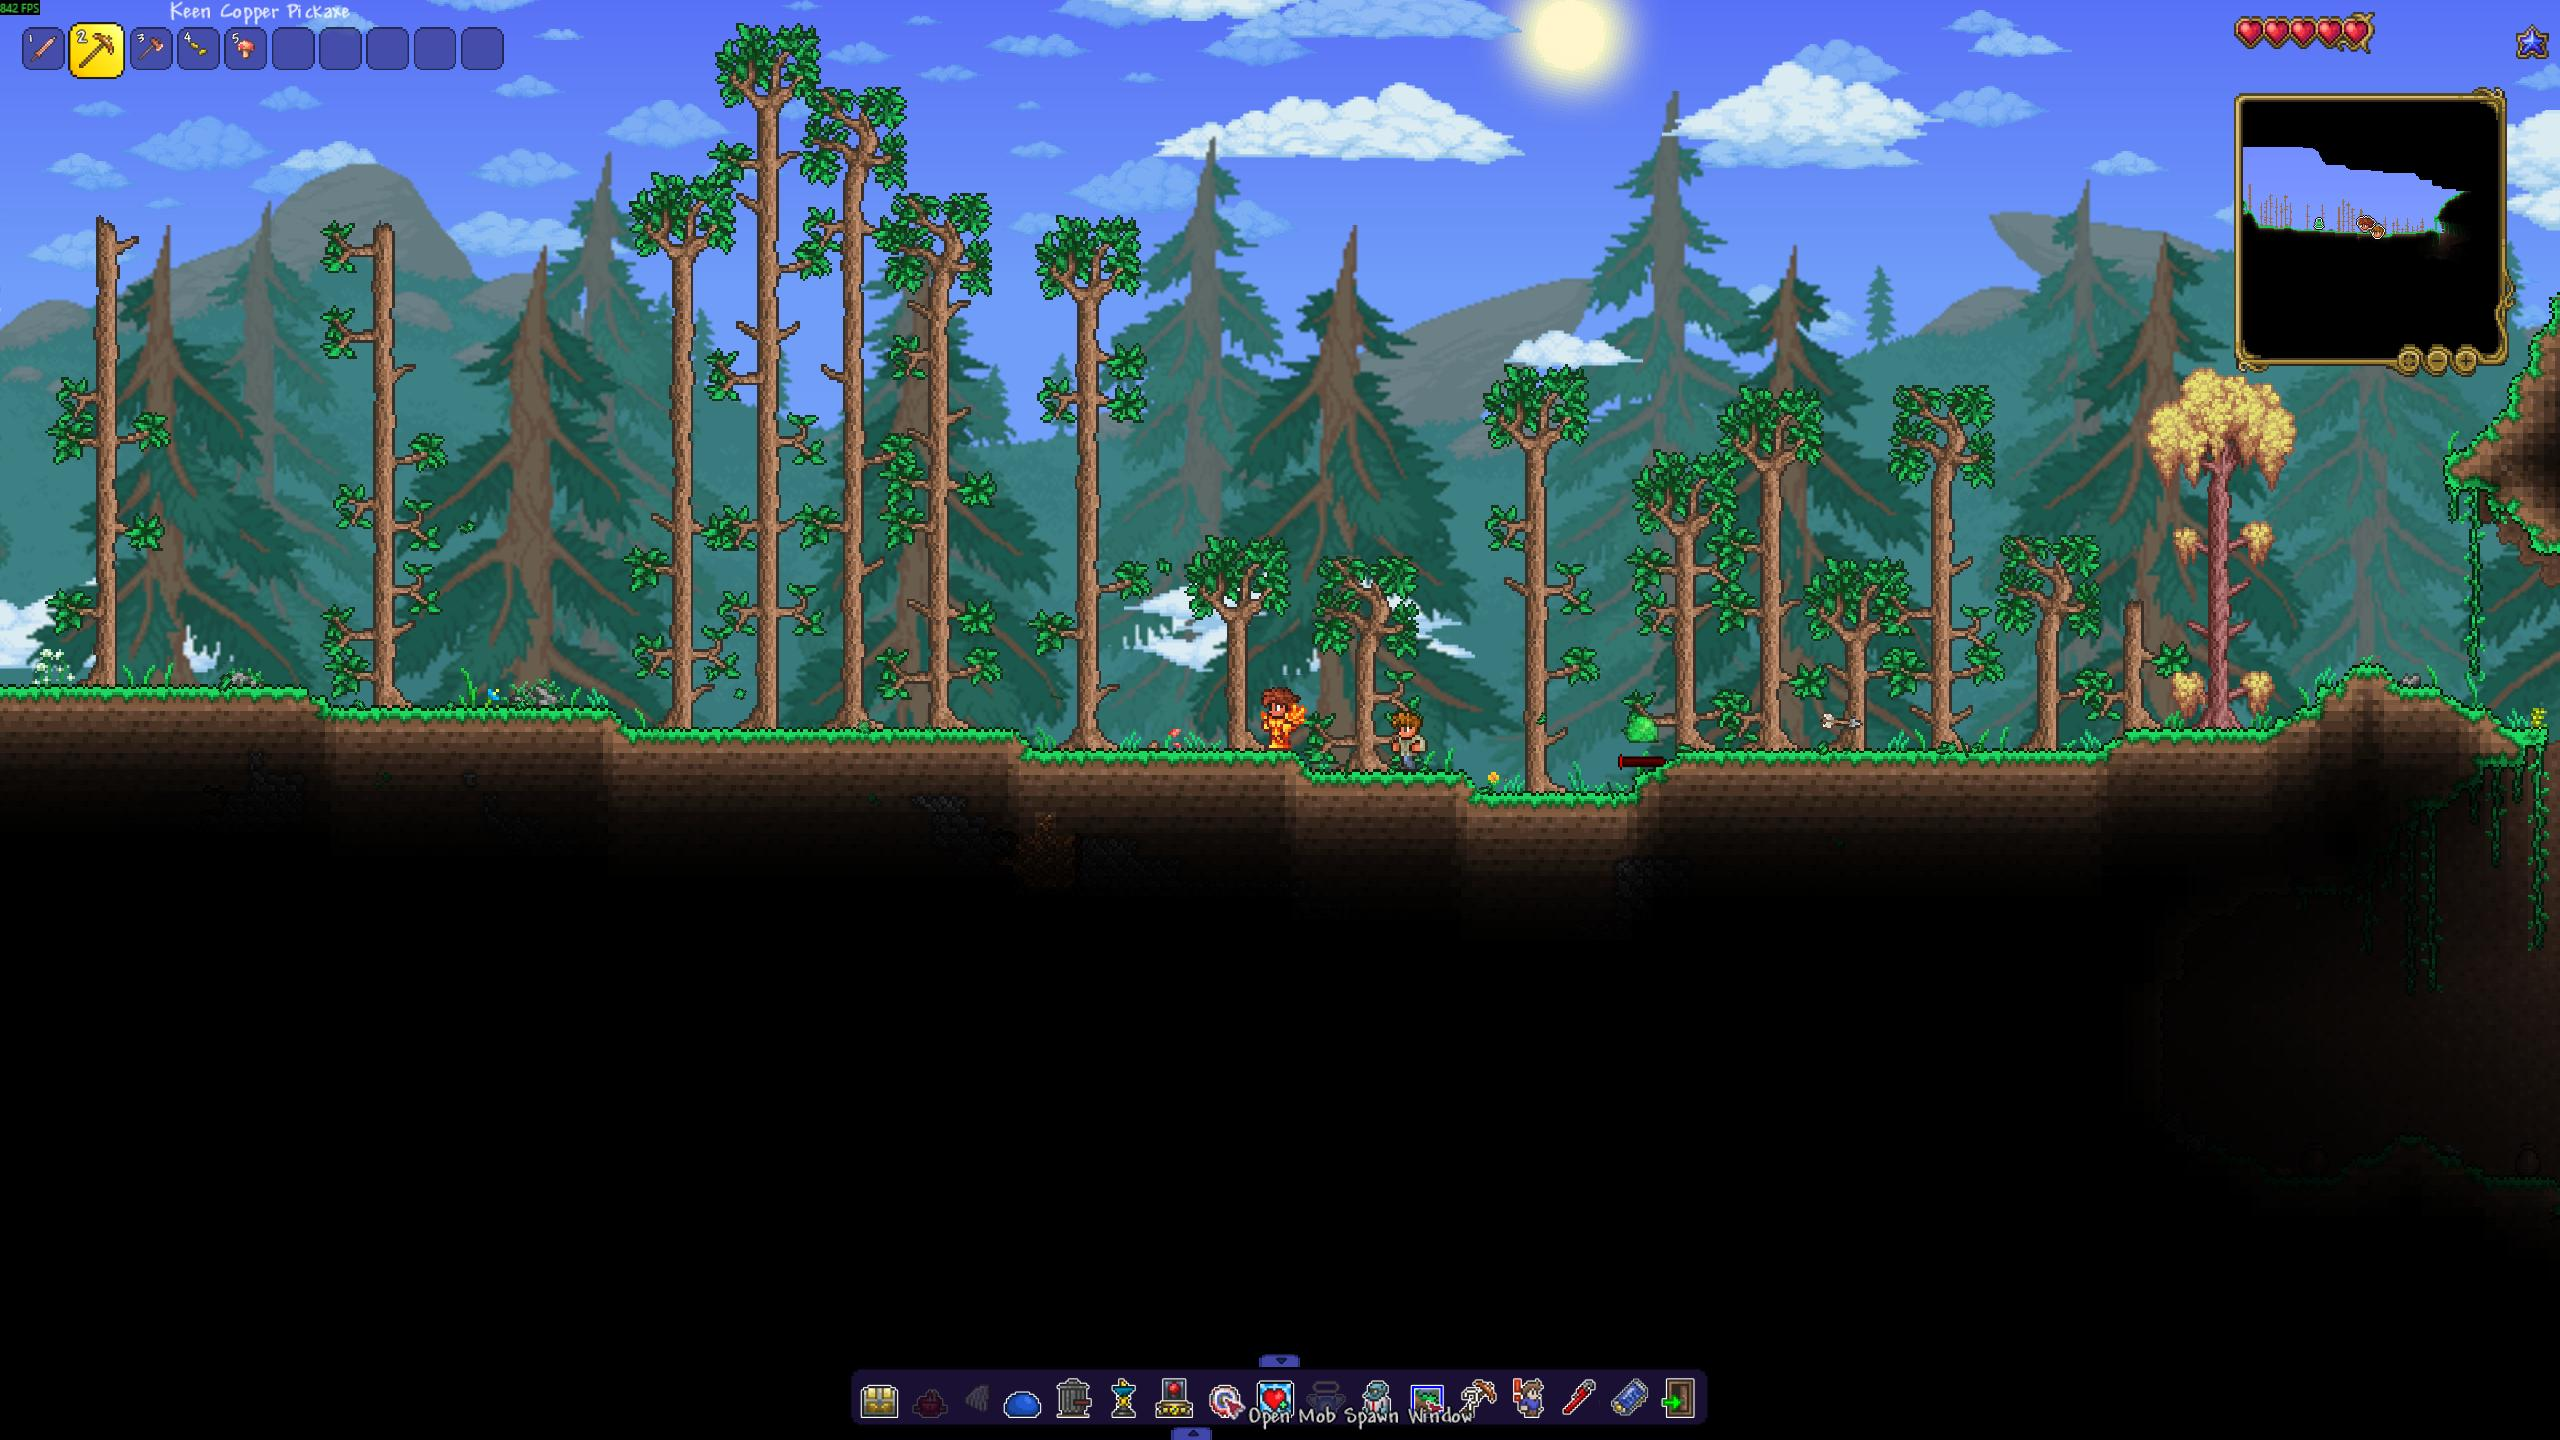Green Slime: (1625, 709, 1658, 747)
